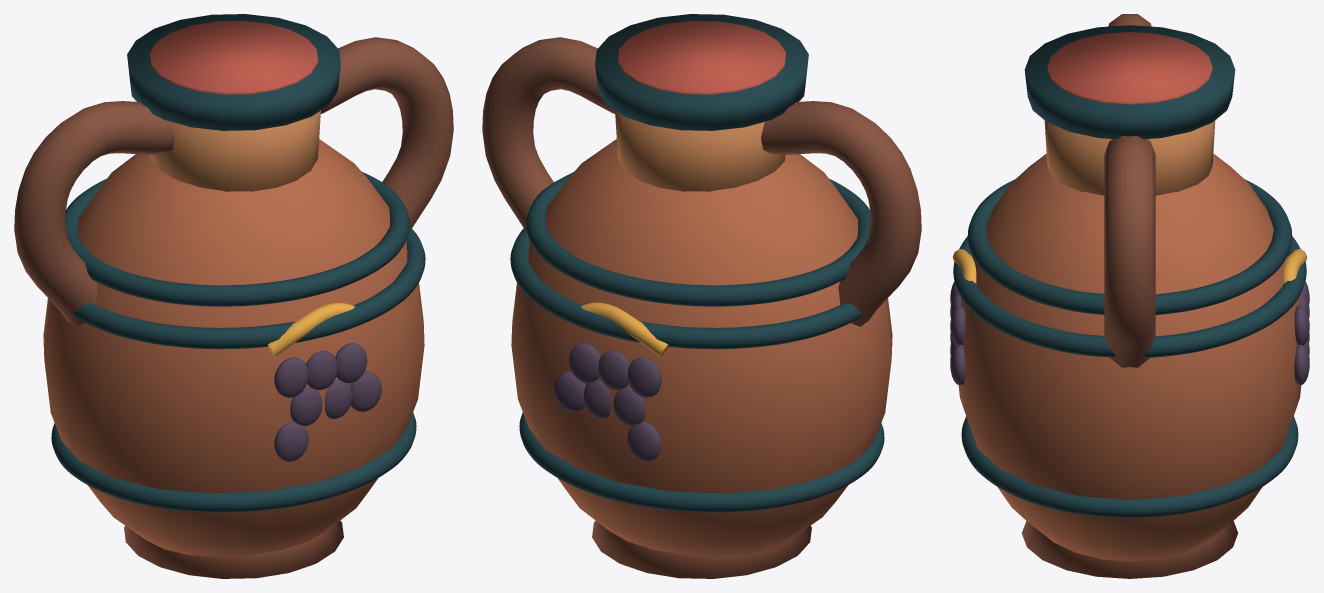
File: wine_urn.glb
The picture shows the model from 3 angles, left to right: view 1: azimuth 30°, elevation 25°; view 2: azimuth 150°, elevation 25°; view 3: azimuth 270°, elevation 25°; orthographic projection. The views are drawn at different scales.
Visible parts, largest first — view 1: body_B26848, body_21454C, body_84513E, body_BC5849, body_C88453, body_57465D, body_8C533D, body_E4A647; view 2: body_B26848, body_21454C, body_84513E, body_BC5849, body_C88453, body_57465D, body_8C533D, body_E4A647; view 3: body_B26848, body_21454C, body_84513E, body_BC5849, body_C88453, body_8C533D, body_57465D, body_E4A647.
Part boxes in pixels (x1,y1,x2,y2): body_B26848: (43,139,424,557); body_21454C: (51,14,425,512); body_84513E: (14,37,453,326); body_BC5849: (150,21,317,94); body_C88453: (150,110,320,191); body_57465D: (274,343,381,461); body_8C533D: (124,520,343,578); body_E4A647: (268,302,354,356); body_B26848: (511,139,892,557); body_21454C: (510,14,884,512); body_84513E: (482,37,921,326); body_BC5849: (618,21,785,94); body_C88453: (615,110,785,191); body_57465D: (554,343,661,461); body_8C533D: (592,520,811,578); body_E4A647: (581,302,667,356); body_B26848: (958,153,1301,561); body_21454C: (953,25,1306,517); body_84513E: (1104,14,1155,367); body_BC5849: (1047,32,1212,104); body_C88453: (1044,120,1215,195); body_8C533D: (1021,521,1238,578); body_57465D: (950,281,1309,384); body_E4A647: (952,249,1307,283).
Bounding box in the file's own units: 1.62 × 1.77 × 1.19.
